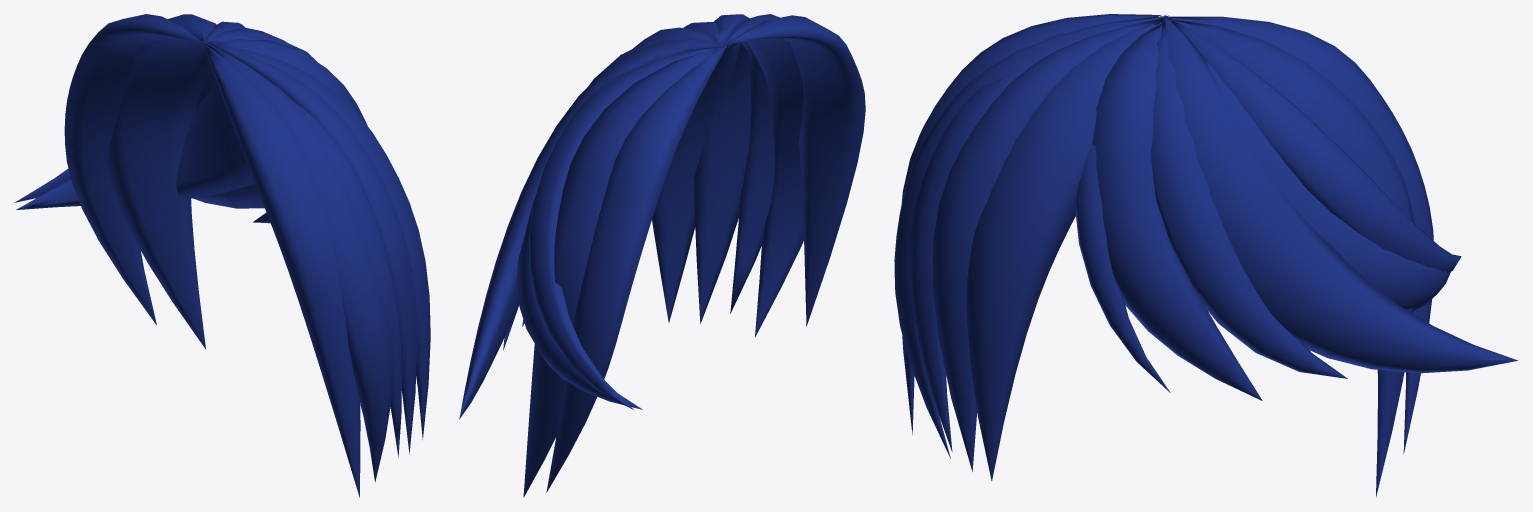
The model's file is doremy_hair_front.glb.
3 views of the same model, side by side, from view 1: azimuth 30°, elevation 25°; view 2: azimuth 150°, elevation 25°; view 3: azimuth 270°, elevation 25° (orthographic). The views are drawn at different scales.
Visible parts, largest first — view 1: doremy_hair_front; view 2: doremy_hair_front; view 3: doremy_hair_front.
Boxes of the visible parts, <box> form: doremy_hair_front: <box>14,14,430,497</box>; doremy_hair_front: <box>459,14,865,497</box>; doremy_hair_front: <box>894,14,1517,497</box>.
Size of the model in its own units: 0.8098 by 1.4 by 1.84.
